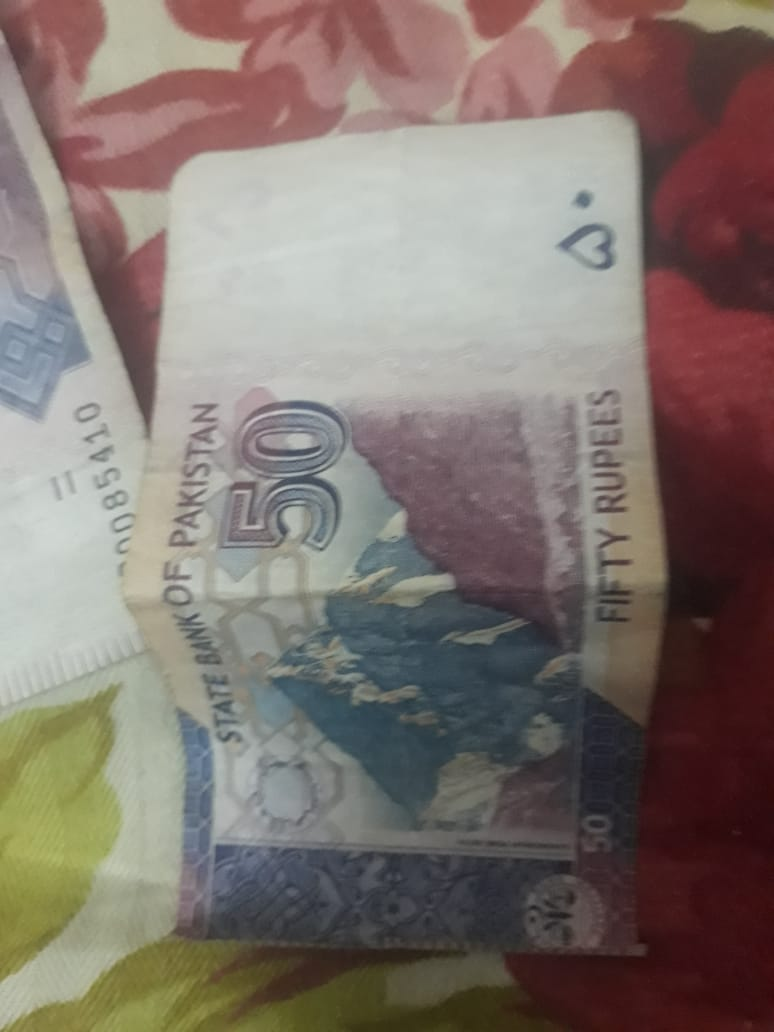50 rupee: (134, 136, 648, 990)
